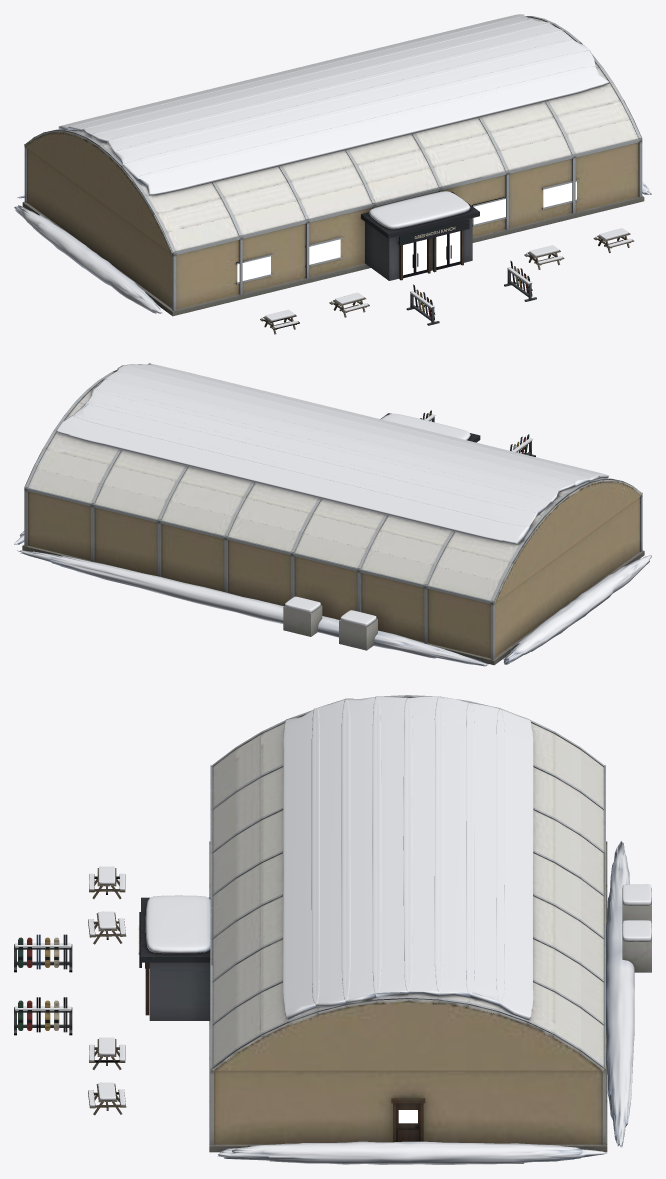
Rendered from greenhorn_ranch.glb.
The picture shows the model from 3 angles, top to bottom: view 1: azimuth 30°, elevation 25°; view 2: azimuth 150°, elevation 25°; view 3: azimuth 270°, elevation 25°; orthographic projection. The views are drawn at different scales.
Visible parts, largest first — view 1: greenhorn_ranch, greenhorn_ranch_snow, greenhorn_ranch_lit; view 2: greenhorn_ranch, greenhorn_ranch_snow; view 3: greenhorn_ranch, greenhorn_ranch_snow.
Boxes of the visible parts, x1,y1,x2,y2 form: greenhorn_ranch: (22, 16, 644, 334); greenhorn_ranch_snow: (14, 14, 651, 328); greenhorn_ranch_lit: (237, 181, 576, 282); greenhorn_ranch: (22, 370, 644, 665); greenhorn_ranch_snow: (14, 363, 651, 666); greenhorn_ranch: (14, 695, 651, 1152); greenhorn_ranch_snow: (14, 696, 651, 1164).
Size of the model in its own units: 36.54 by 8.42 by 29.97.
4 materials, 1 textured.
